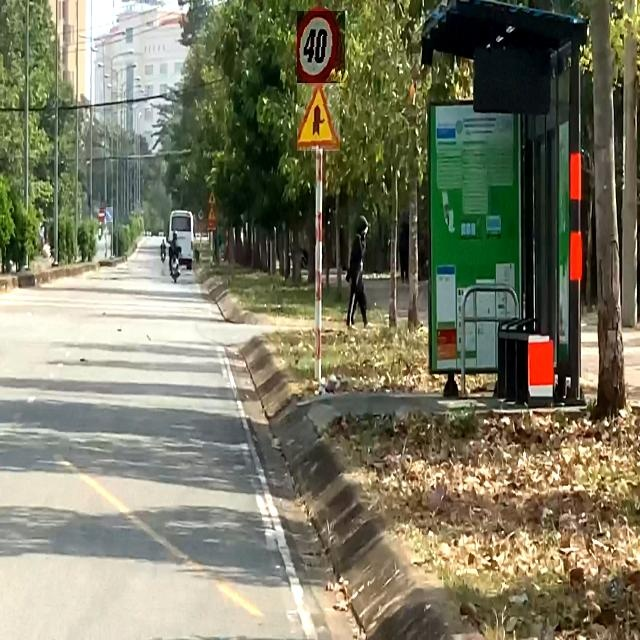bien_cam: (297, 11, 345, 83), (297, 81, 340, 151), (106, 207, 113, 222), (98, 209, 105, 221)
